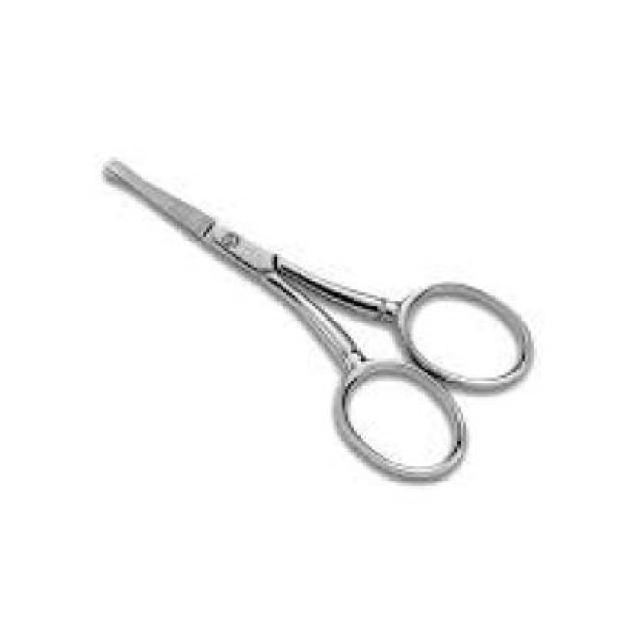scissors: (100, 152, 540, 482)
